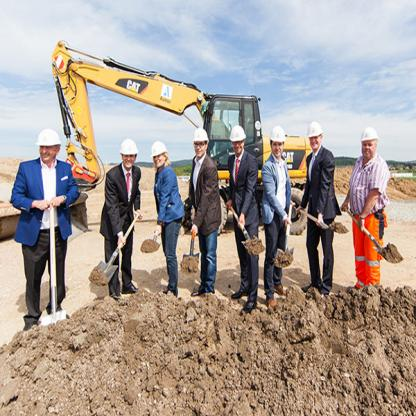person: (10, 117, 84, 340), (344, 107, 400, 327), (94, 111, 146, 314), (296, 106, 343, 314), (185, 120, 225, 317), (226, 113, 262, 322), (261, 123, 297, 315), (147, 126, 184, 312)
